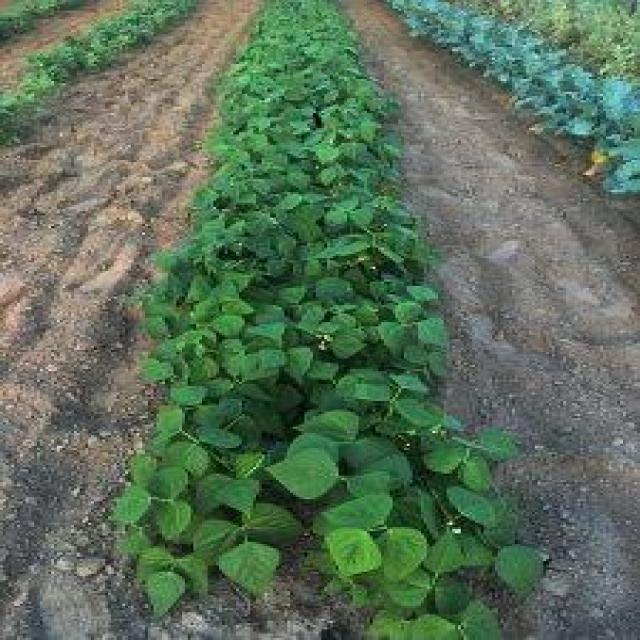row: (346, 2, 640, 640), (0, 0, 262, 640), (0, 0, 149, 94), (0, 0, 20, 12)
